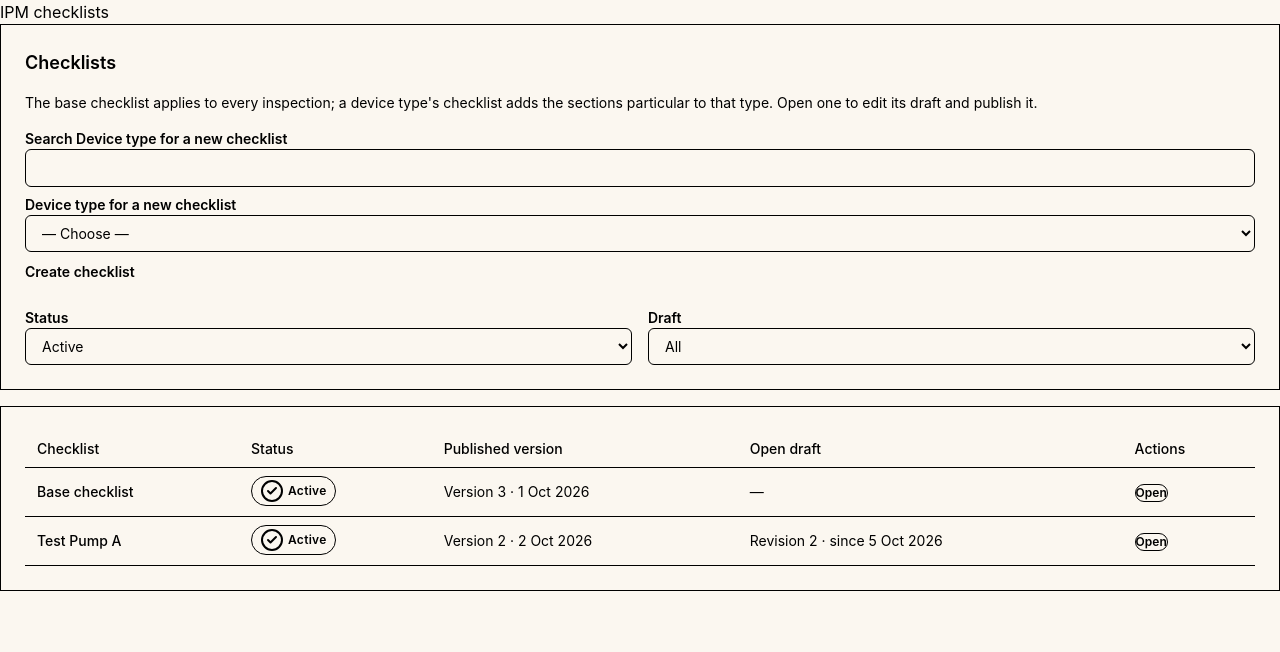
P22-01 — the operator's checklists › reorders two items of one section
Click the button with aria-label "Open Test Pump A" at x=1151, y=542, box top-left (1135, 533), bottom-right (1168, 551)
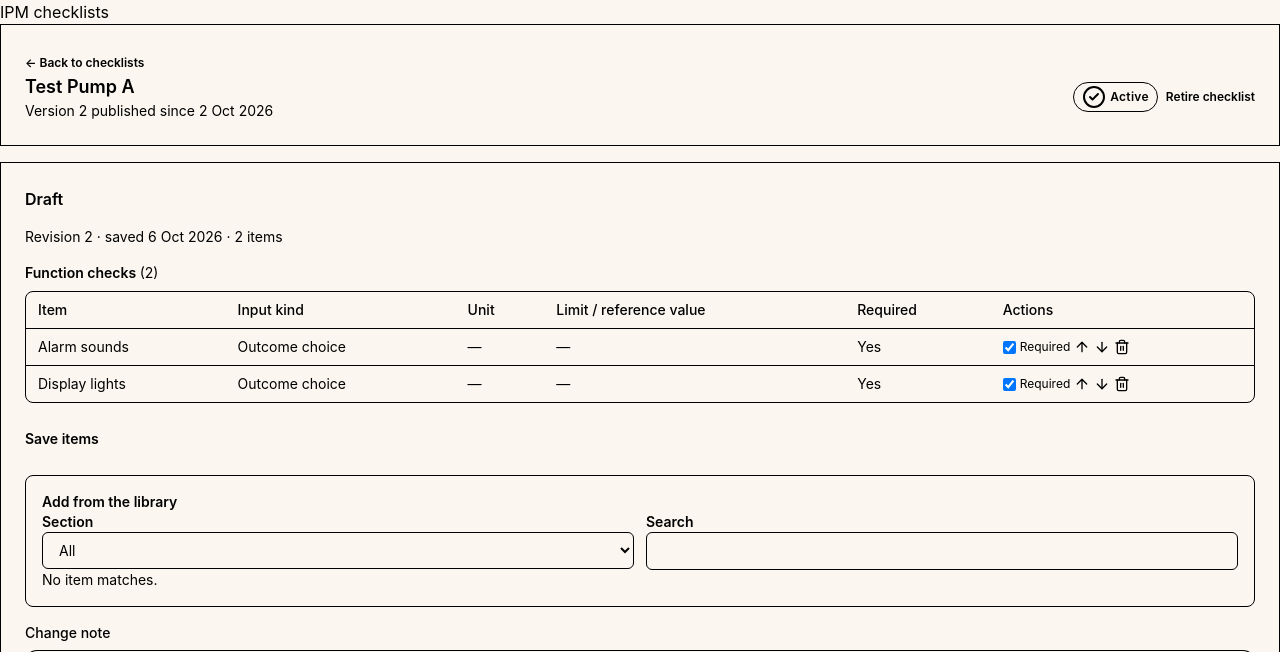
Expected: the row "Alarm sounds Outcome choice — — Yes Required" is shown, top-left (26, 328), bottom-right (1254, 366)
Click the button named "Move Display lights up" at x=1082, y=384, box top-left (1074, 376), bottom-right (1090, 392)
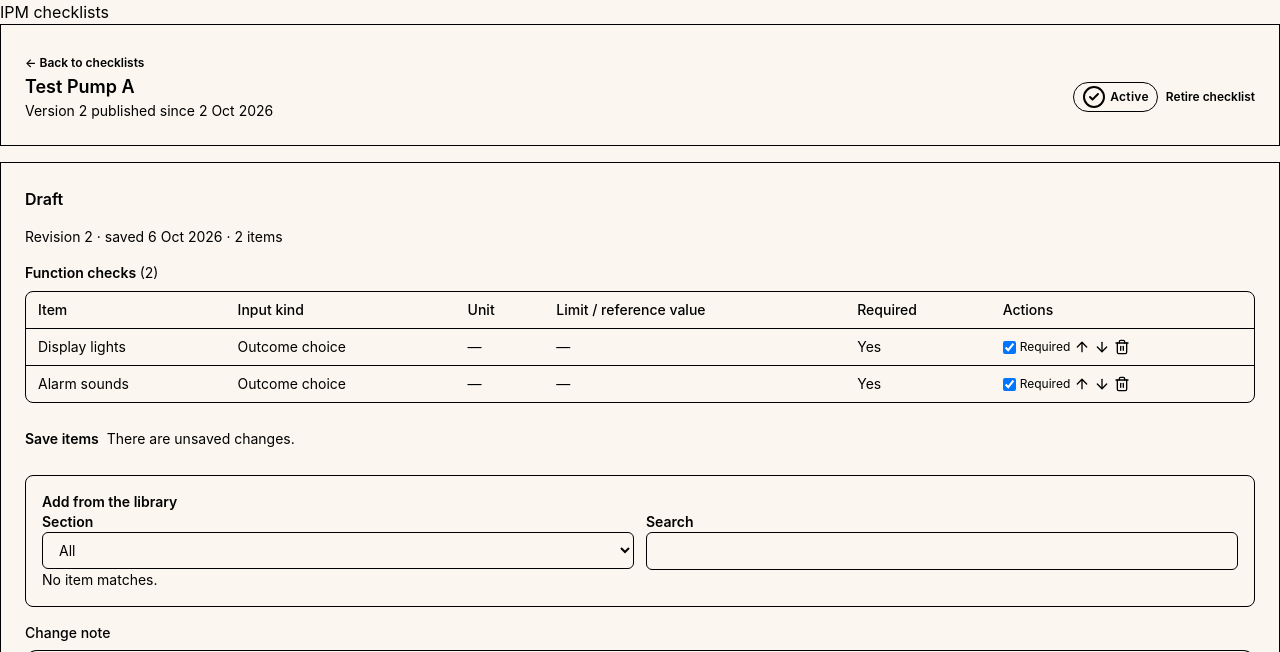
Expected: the row "Display lights Outcome choice — — Yes Required" is shown, top-left (26, 328), bottom-right (1254, 366)
Click the button named "Move Display lights down" at x=1102, y=347, box top-left (1094, 339), bottom-right (1110, 355)
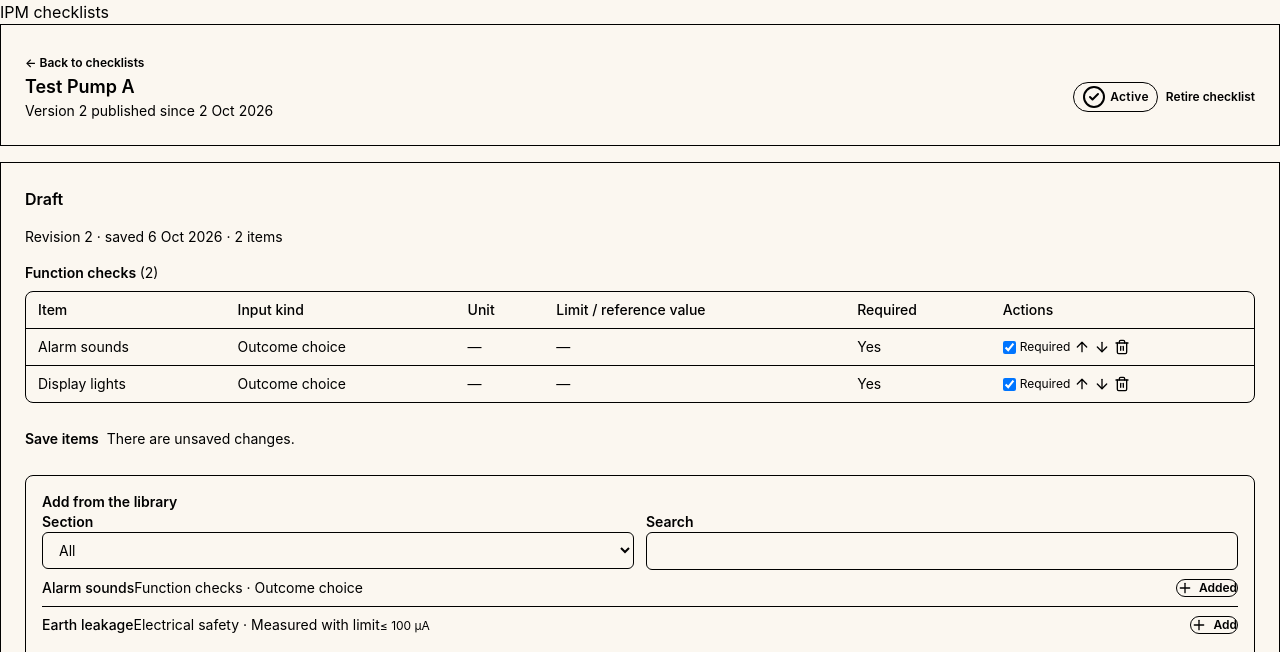
Expected: the row "Alarm sounds Outcome choice — — Yes Required" is shown, top-left (26, 328), bottom-right (1254, 366)
